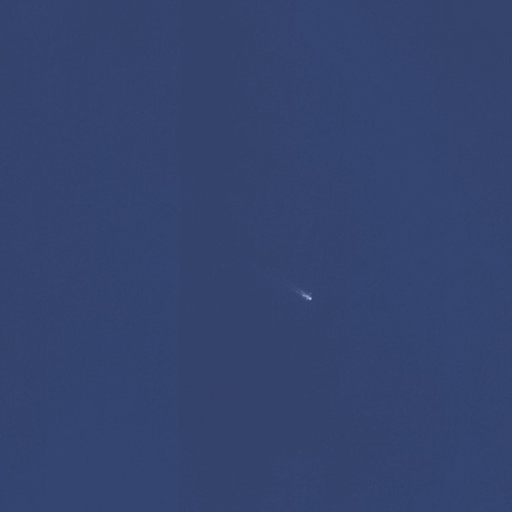ship: (298, 290, 315, 304)
